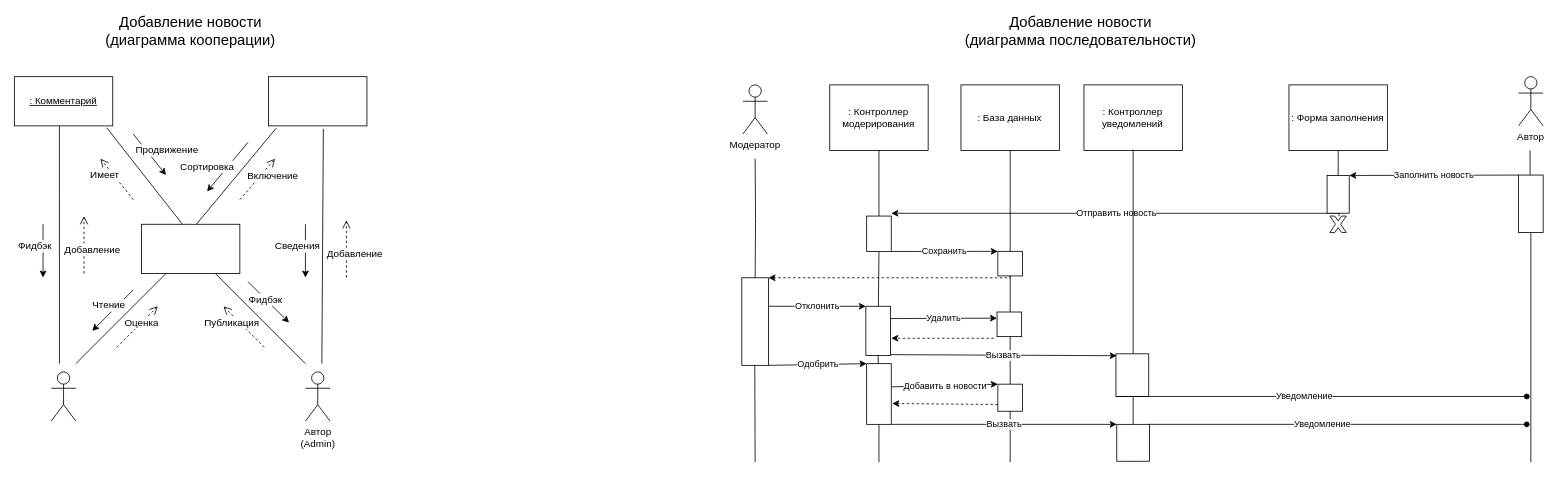
The diagram is 1559 pixels wide and 477 high, and some of its shapes have lost their labels. Here are the shapes that lost their labels. From the top down, the box of each, then its label:
(268, 76, 367, 126): : Категория
(141, 223, 240, 273): : Новость
(50, 371, 76, 421): Пользователь (User)
